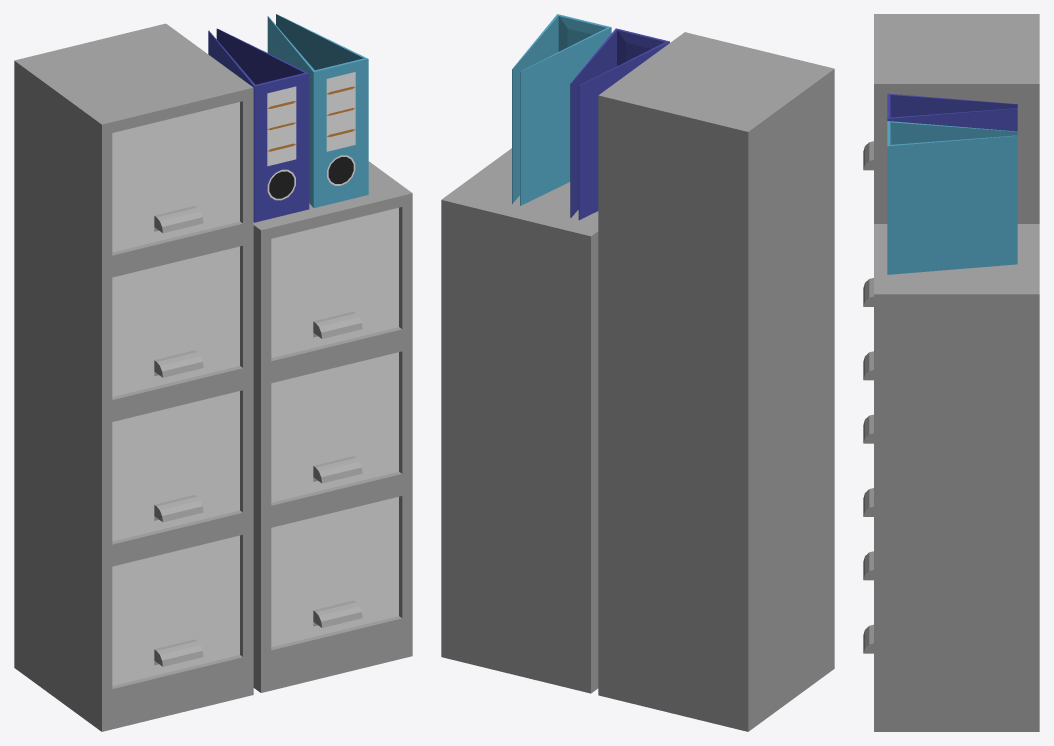
File: dolap_gray.fbx
The picture shows the model from 3 angles, left to right: view 1: azimuth 30°, elevation 25°; view 2: azimuth 150°, elevation 25°; view 3: azimuth 270°, elevation 25°; orthographic projection. The views are drawn at different scales.
Parts seen in each view (by area): view 1: dolap_gray; view 2: dolap_gray; view 3: dolap_gray.
Boxes of the visible parts, left/top/right/bottom form: dolap_gray: left=14, top=14, right=412, bottom=731; dolap_gray: left=441, top=14, right=834, bottom=731; dolap_gray: left=863, top=14, right=1039, bottom=731.
Bounding box in the file's own units: 103 × 192 × 53.43.
